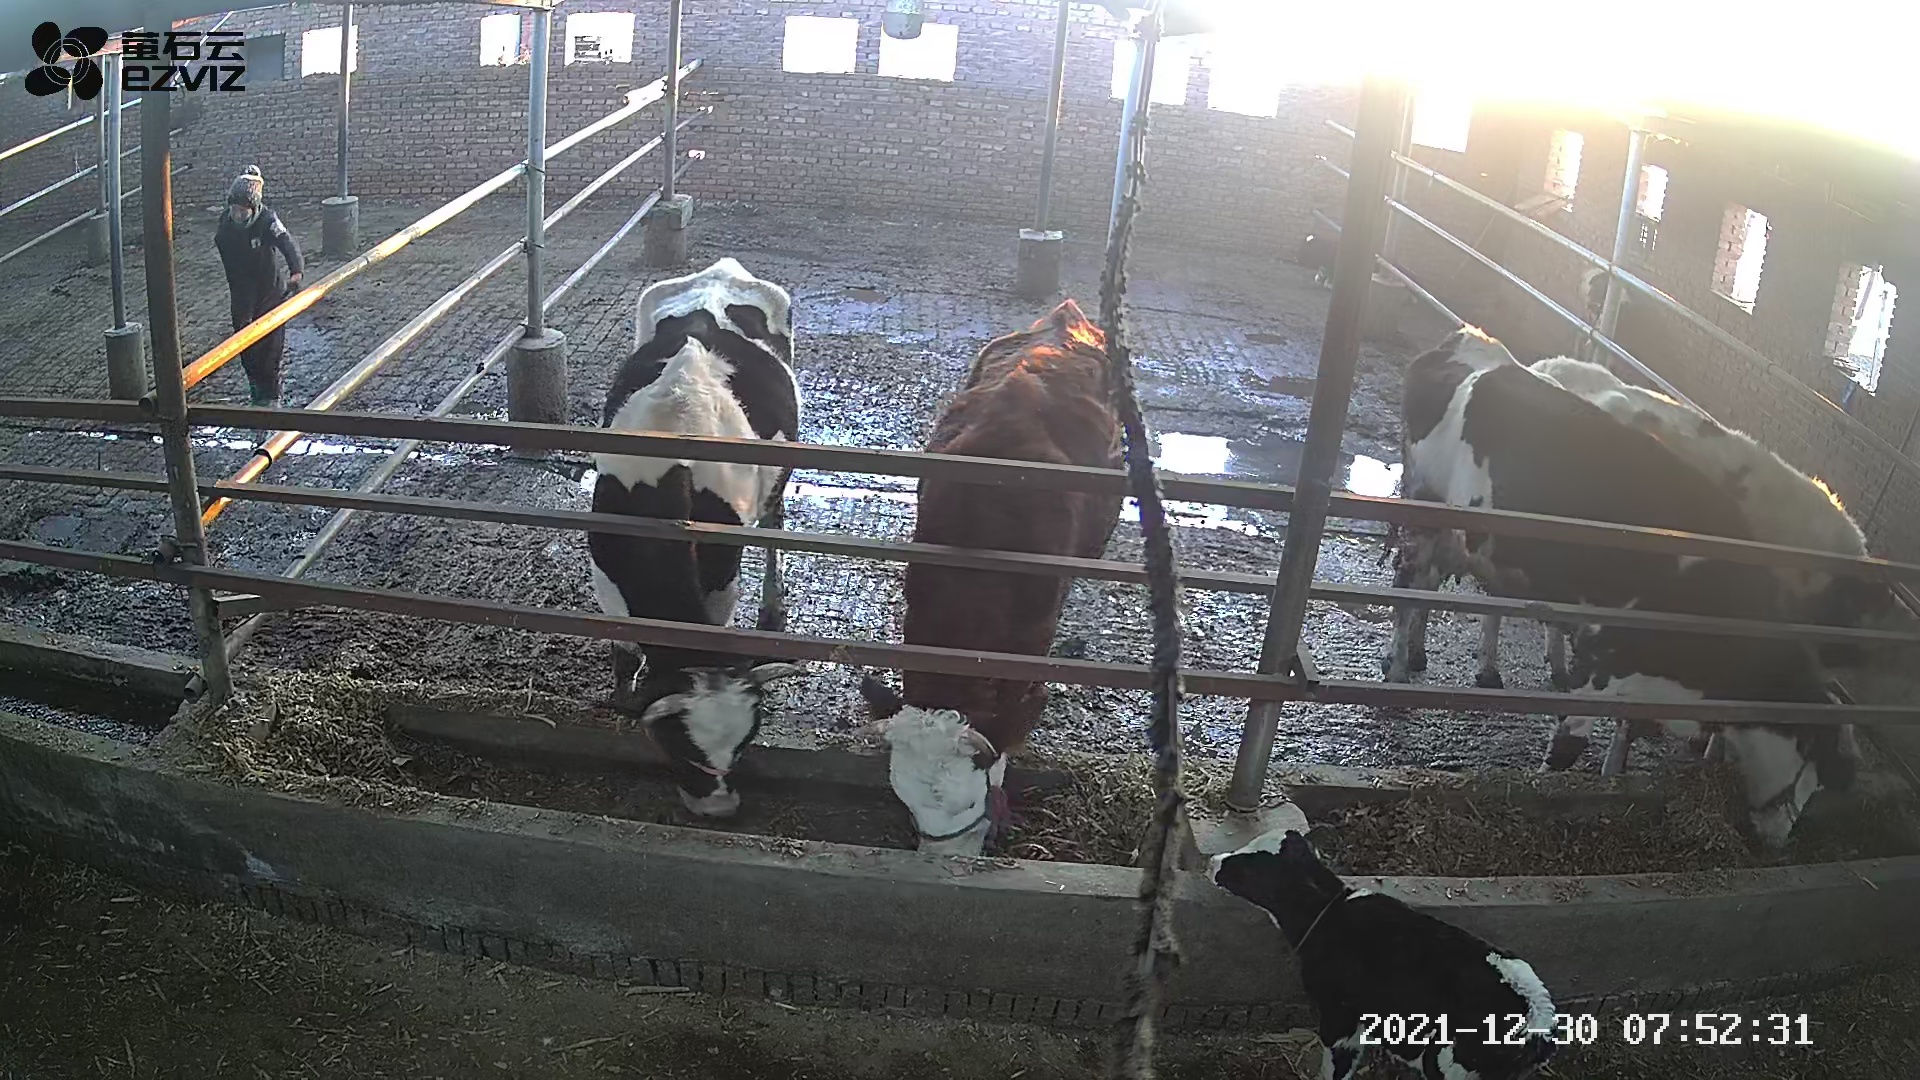cow: (1378, 318, 1865, 853), (857, 295, 1124, 858), (1527, 353, 1920, 727), (585, 255, 803, 822)
